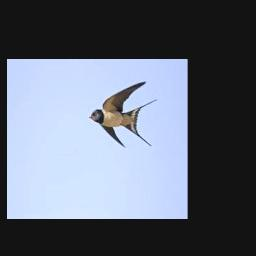Swallow: (89, 81, 158, 147)
